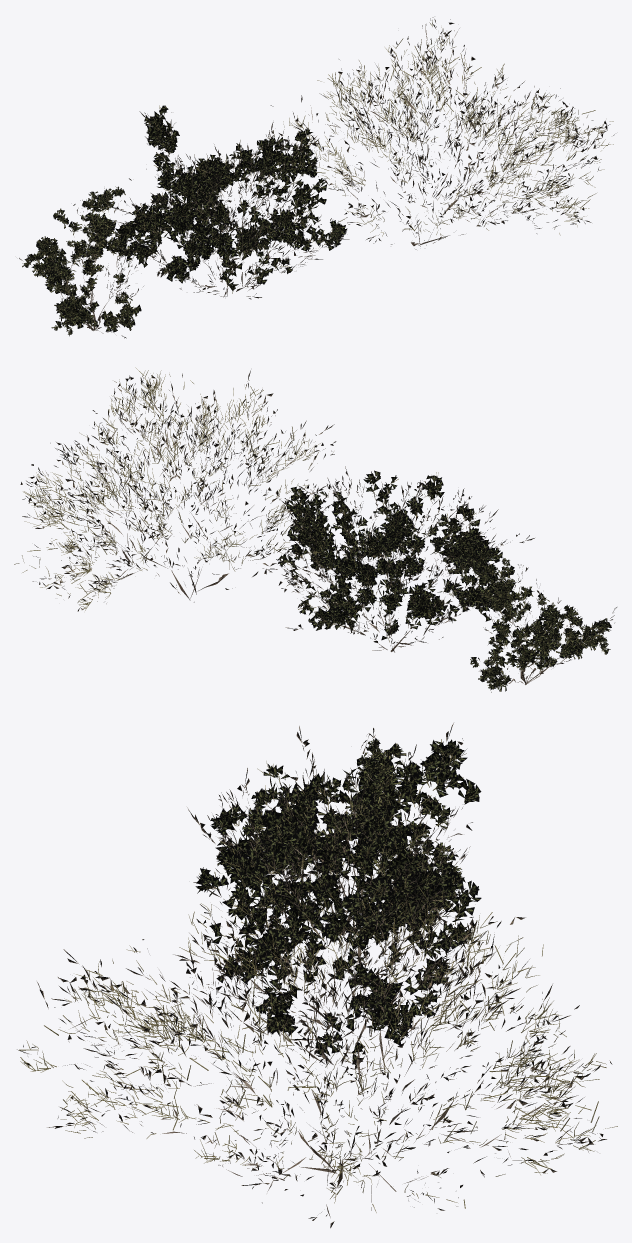
File: searsia_burchellii.glb
The picture shows the model from 3 angles, top to bottom: view 1: azimuth 30°, elevation 25°; view 2: azimuth 150°, elevation 25°; view 3: azimuth 270°, elevation 25°; orthographic projection. The views are drawn at different scales.
Visible parts, largest first — view 1: searsia_burchellii_medium_LOD0, searsia_burchellii_large_LOD0, searsia_burchellii_small_LOD0; view 2: searsia_burchellii_medium_LOD0, searsia_burchellii_large_LOD0, searsia_burchellii_small_LOD0; view 3: searsia_burchellii_medium_LOD0, searsia_burchellii_large_LOD0, searsia_burchellii_small_LOD0.
Boxes of the visible parts, box(x1,y1,x2,y2) form: searsia_burchellii_medium_LOD0: box(111, 105, 355, 299); searsia_burchellii_large_LOD0: box(270, 17, 614, 249); searsia_burchellii_small_LOD0: box(19, 186, 143, 338); searsia_burchellii_medium_LOD0: box(276, 466, 534, 652); searsia_burchellii_large_LOD0: box(14, 367, 336, 611); searsia_burchellii_small_LOD0: box(460, 550, 616, 692); searsia_burchellii_medium_LOD0: box(173, 723, 483, 1064); searsia_burchellii_large_LOD0: box(17, 859, 617, 1228); searsia_burchellii_small_LOD0: box(216, 728, 470, 935).
Bounding box in the file's own units: 8.33 × 3.17 × 5.02.
Materials: 3 (3 with a texture image).
